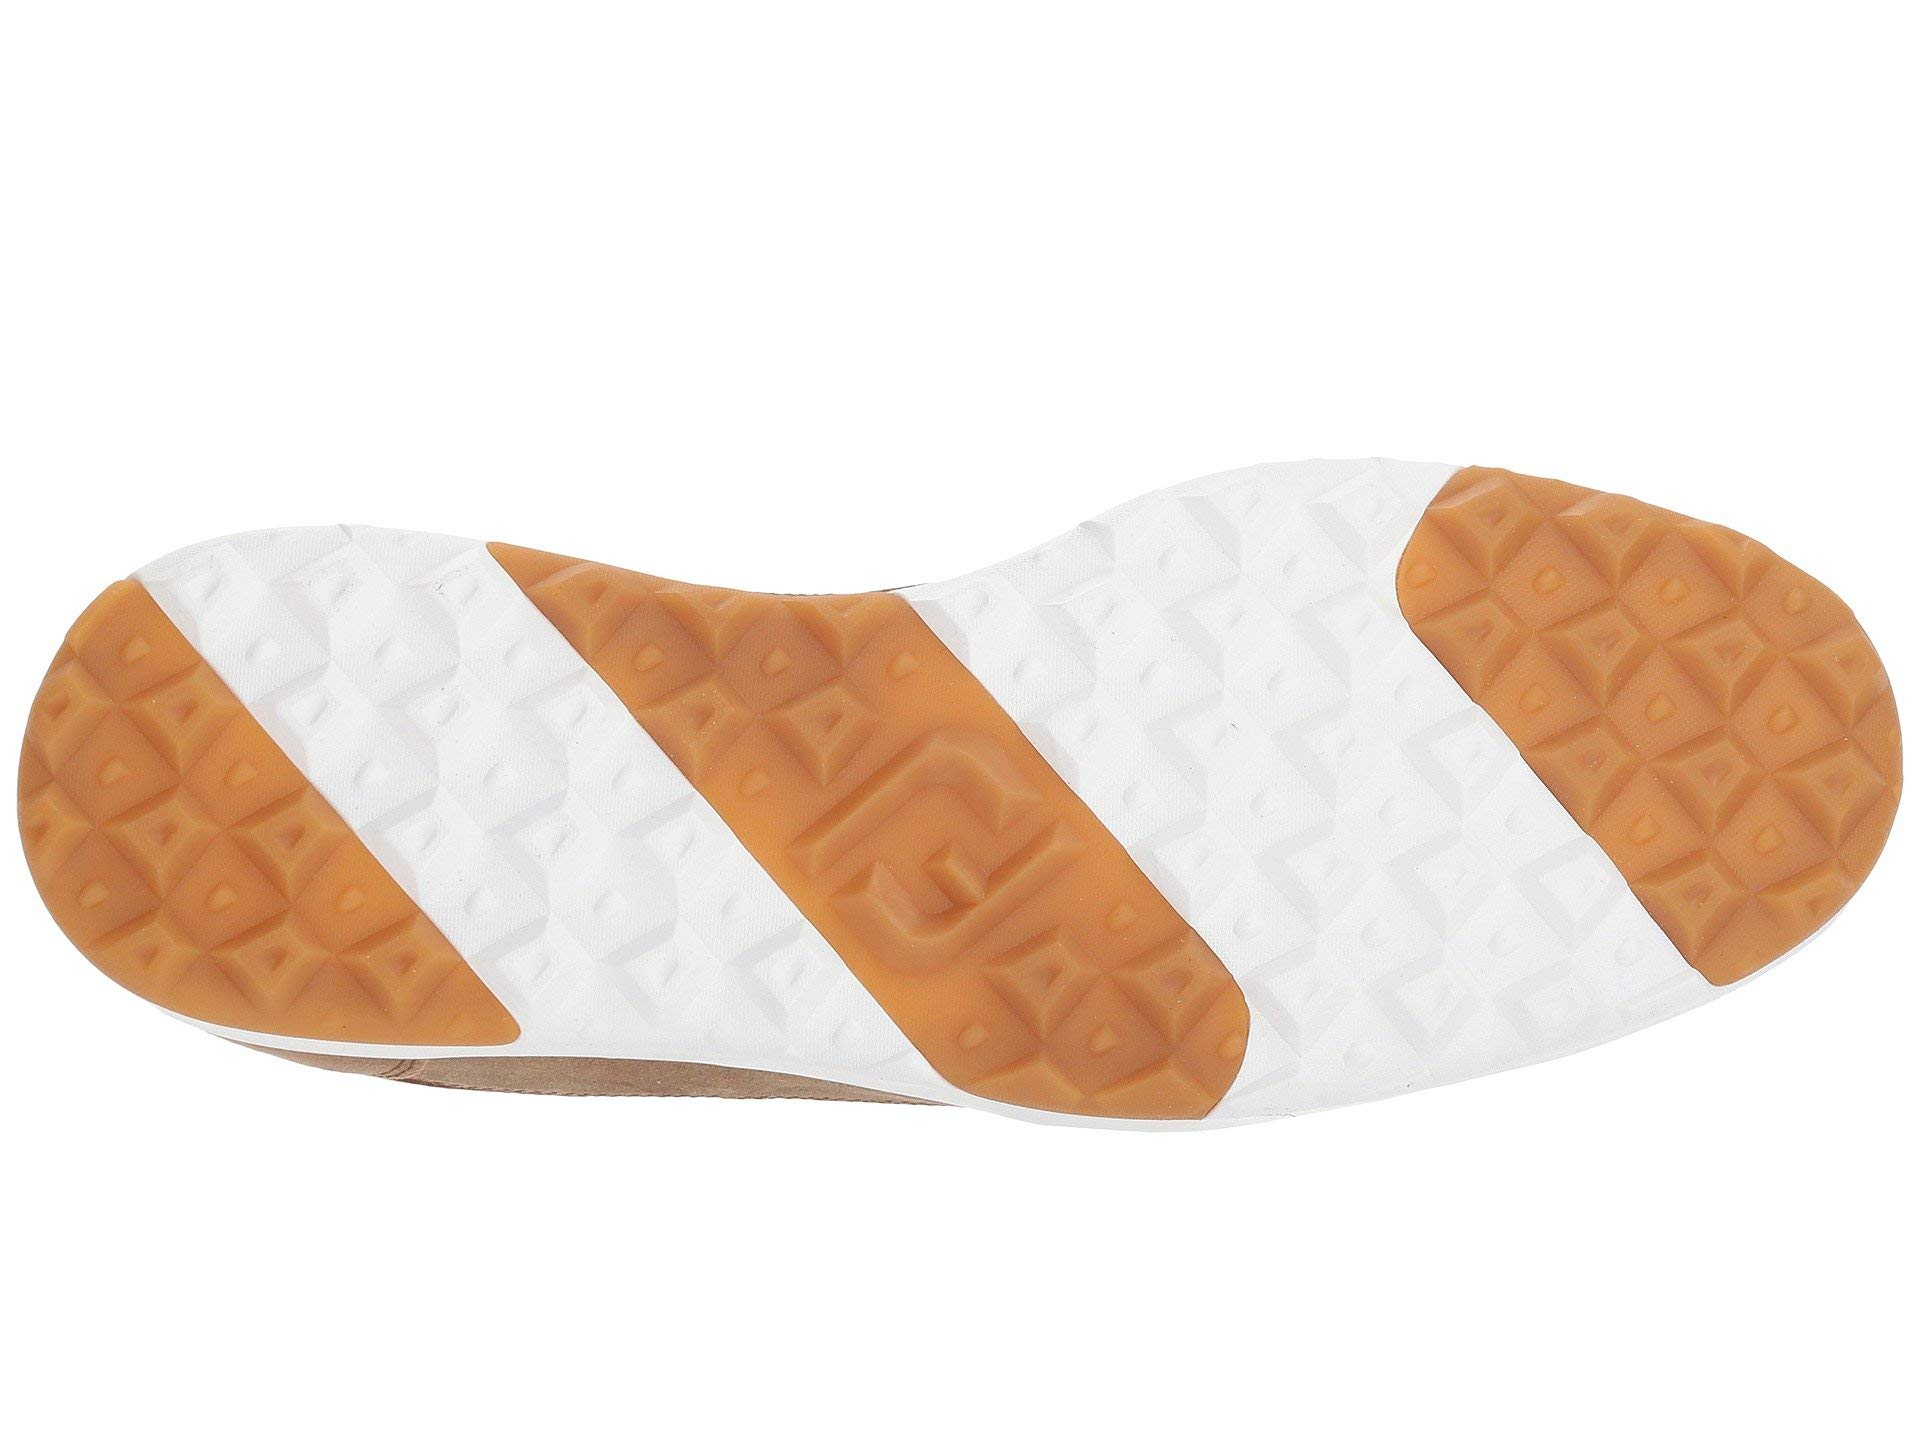quad: (1181, 582, 1652, 1030), (124, 656, 514, 1018)
